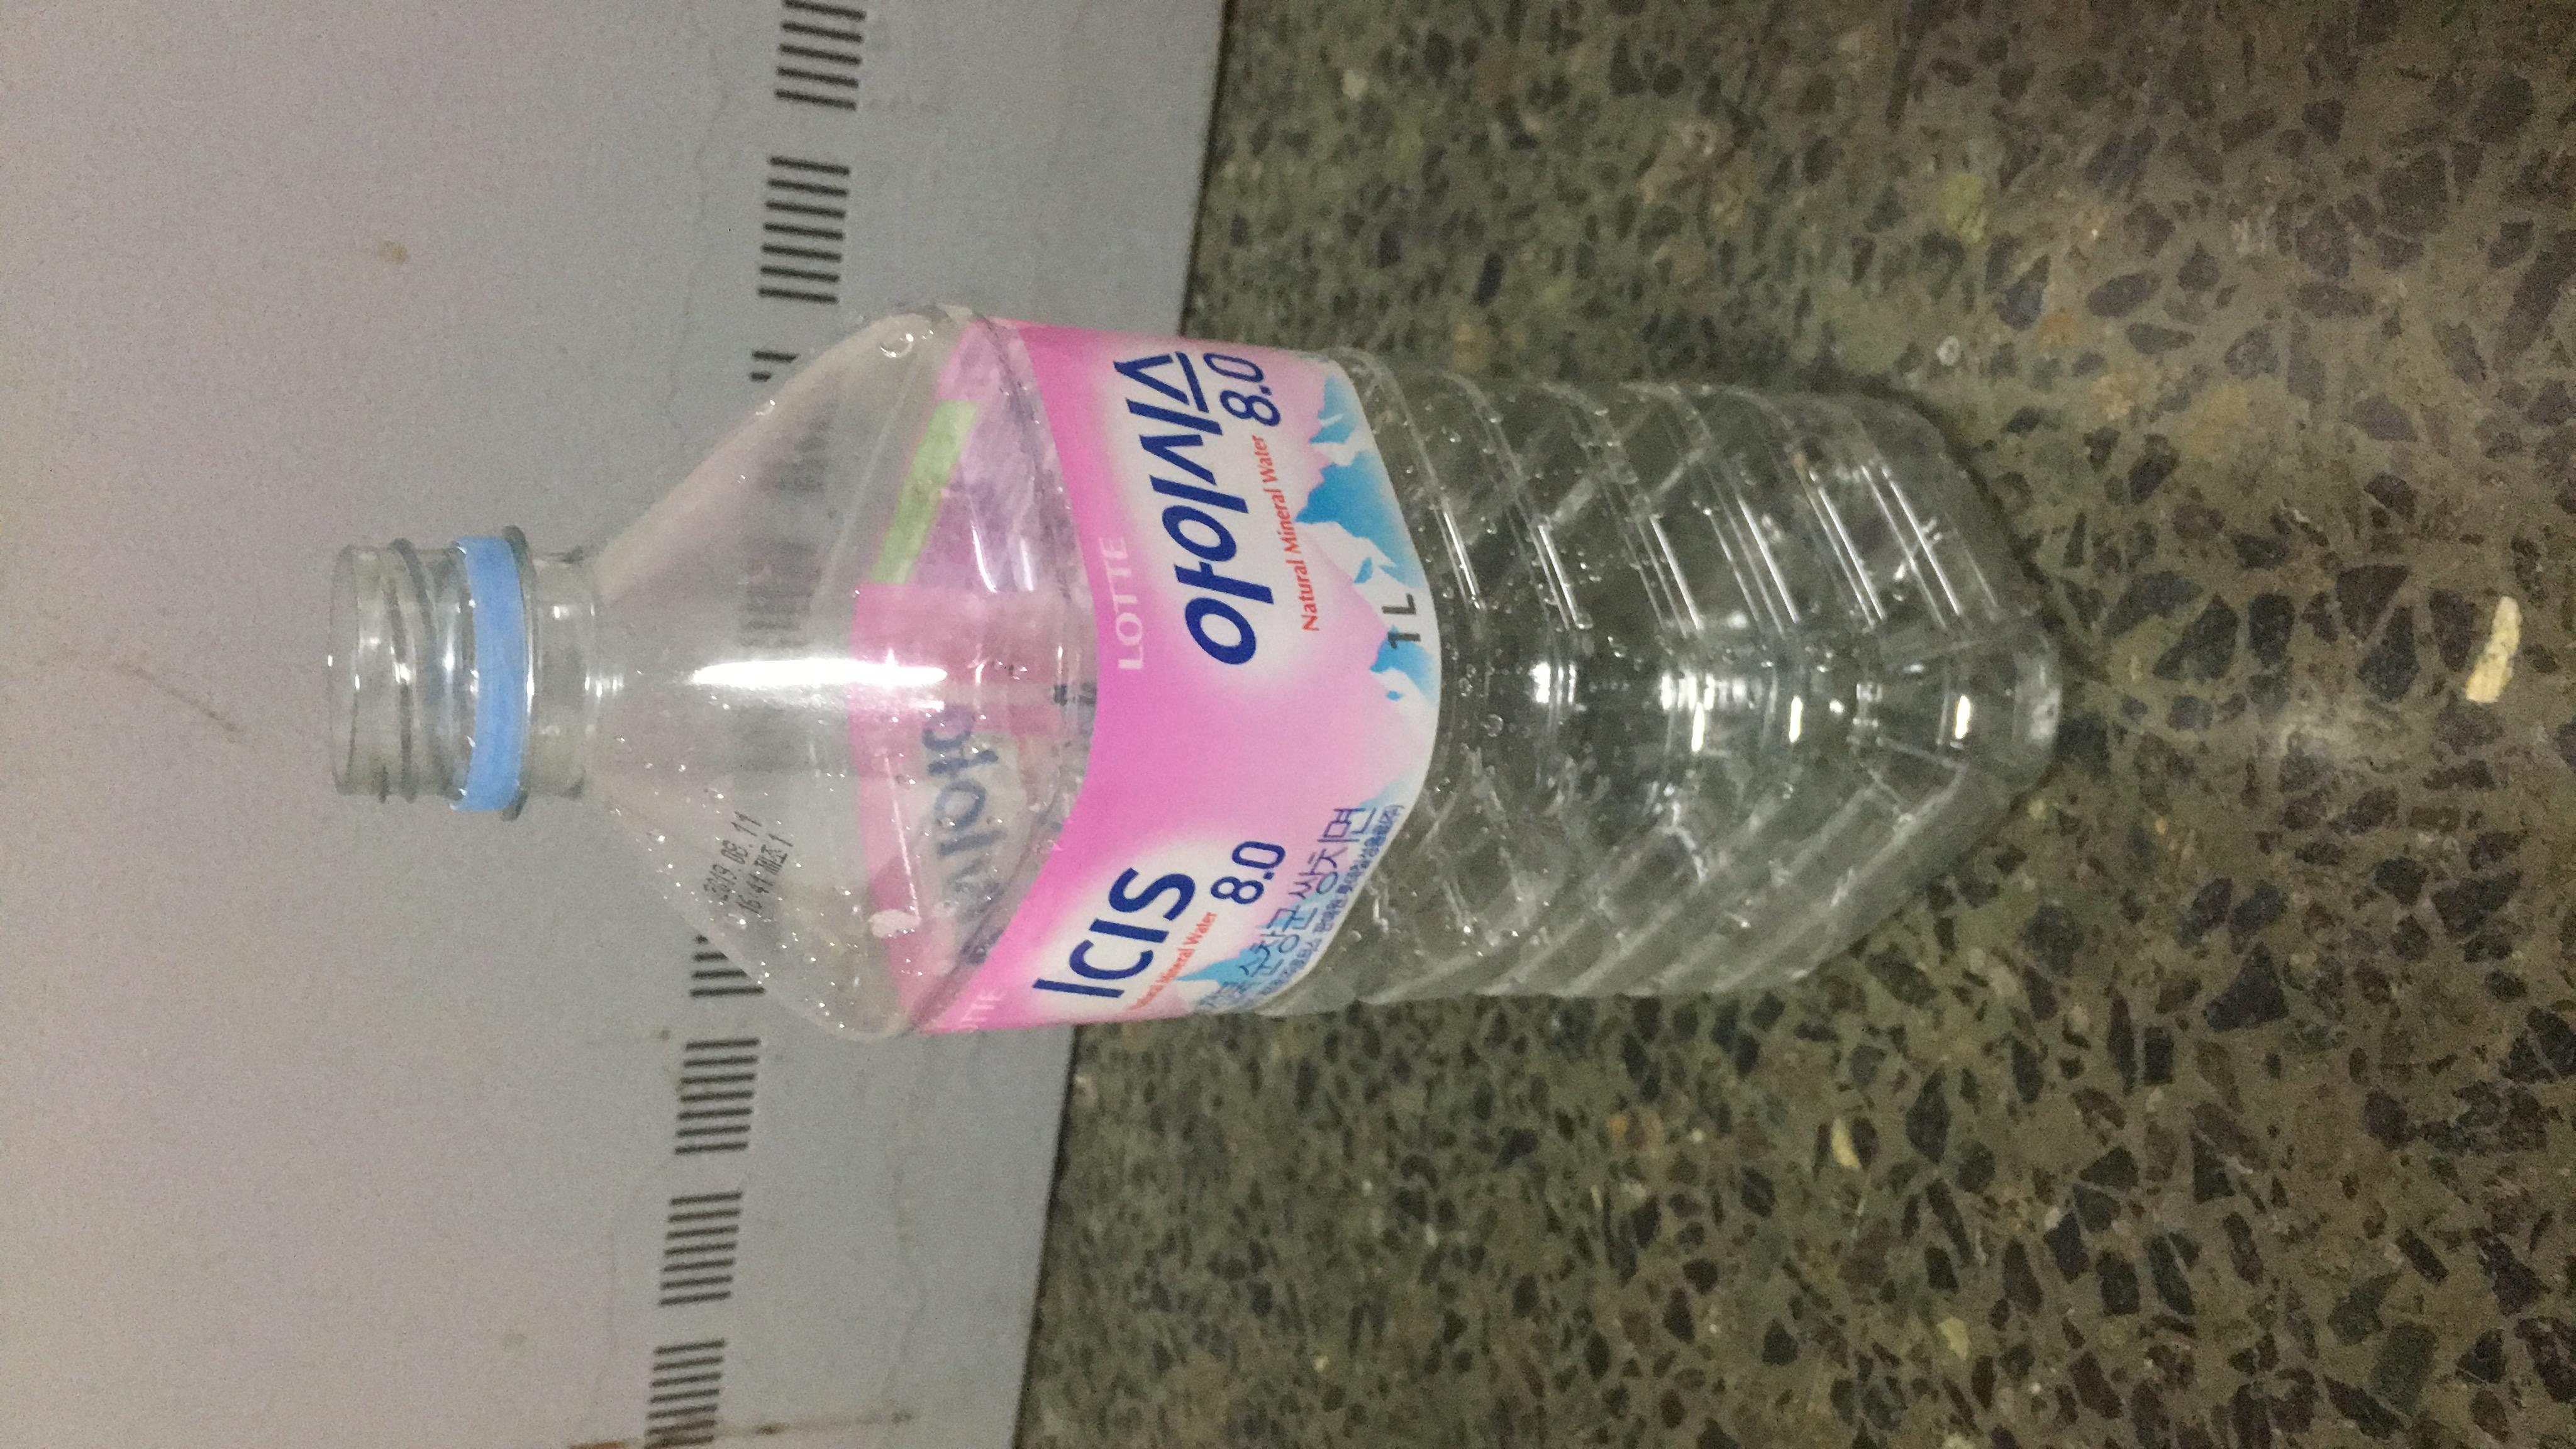bottle: (584, 124, 2051, 1171)
